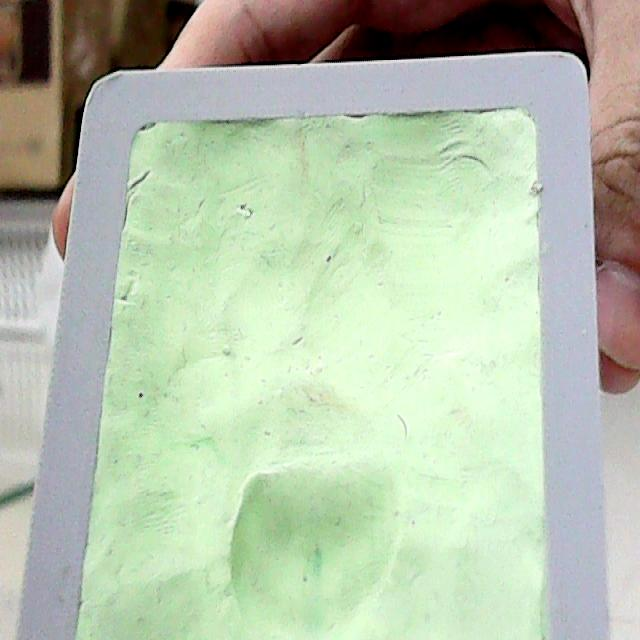block: (0, 45, 608, 640)
